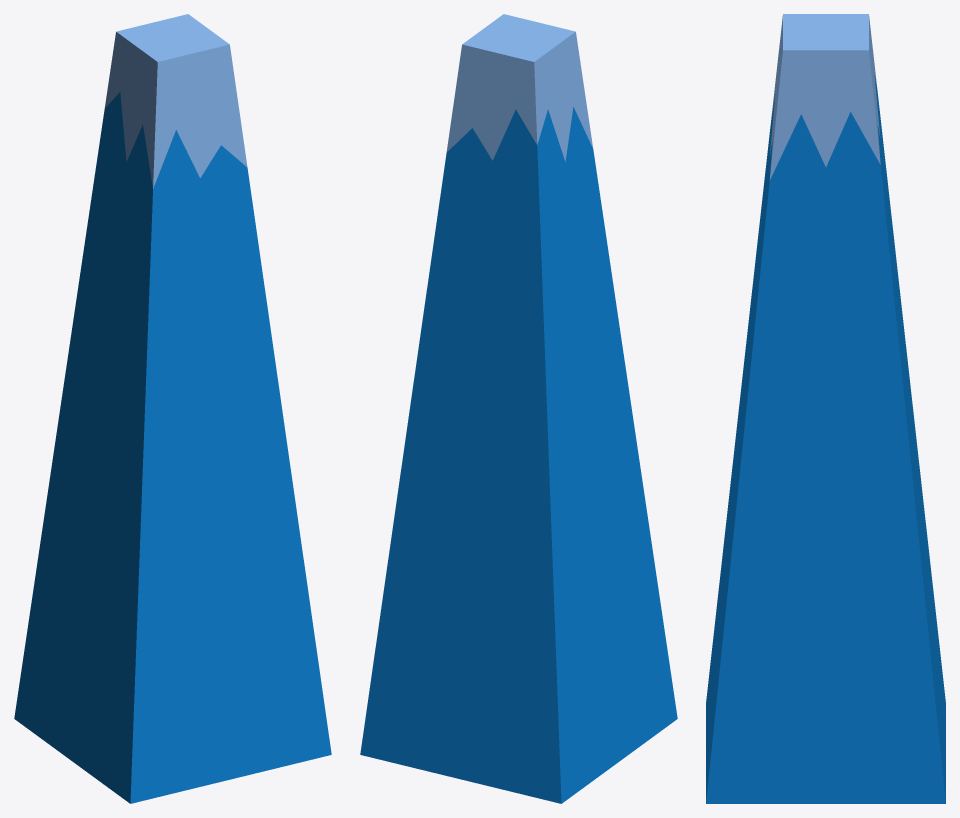
File: Mountain.fbx
The picture shows the model from 3 angles, left to right: view 1: azimuth 30°, elevation 25°; view 2: azimuth 150°, elevation 25°; view 3: azimuth 270°, elevation 25°; orthographic projection. The views are drawn at different scales.
Visible parts, largest first — view 1: Cube.002, Cube.003; view 2: Cube.002, Cube.003; view 3: Cube.002, Cube.003.
Boxes of the visible parts, x1,y1,x2,y2 form: Cube.002: [14, 92, 331, 803]; Cube.003: [104, 14, 247, 188]; Cube.002: [360, 107, 677, 803]; Cube.003: [446, 14, 593, 161]; Cube.002: [706, 73, 945, 803]; Cube.003: [769, 14, 880, 180].
Bounding box in the file's own units: 395 × 1310 × 395.
